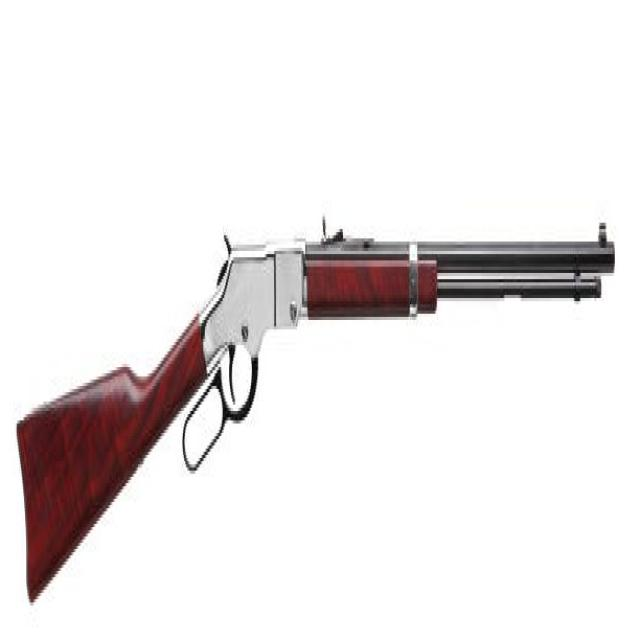rifle: (16, 204, 623, 619)
